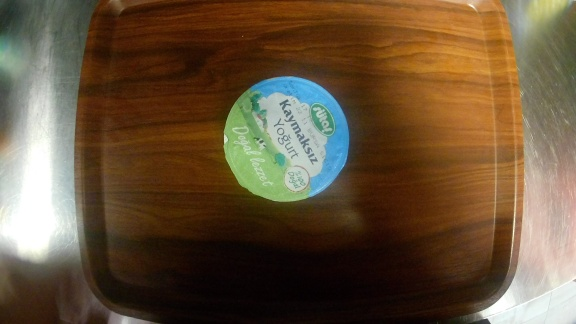yogurt: (216, 73, 351, 203)
